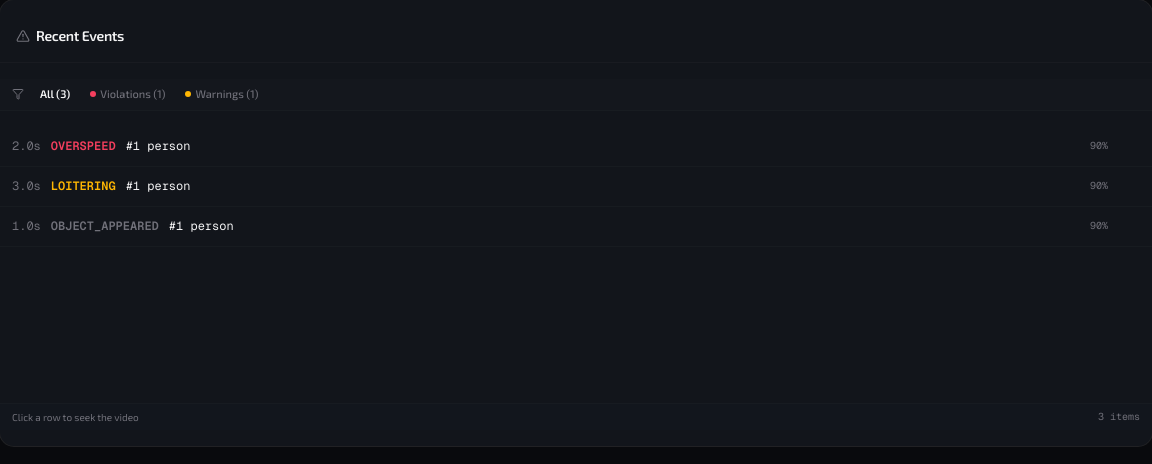
RecentEventsFeed › still shows only one severity tier when a quick filter is active
Click the button "Violations (1)".
click(128, 94)  # box top-left (82, 85), bottom-right (174, 104)
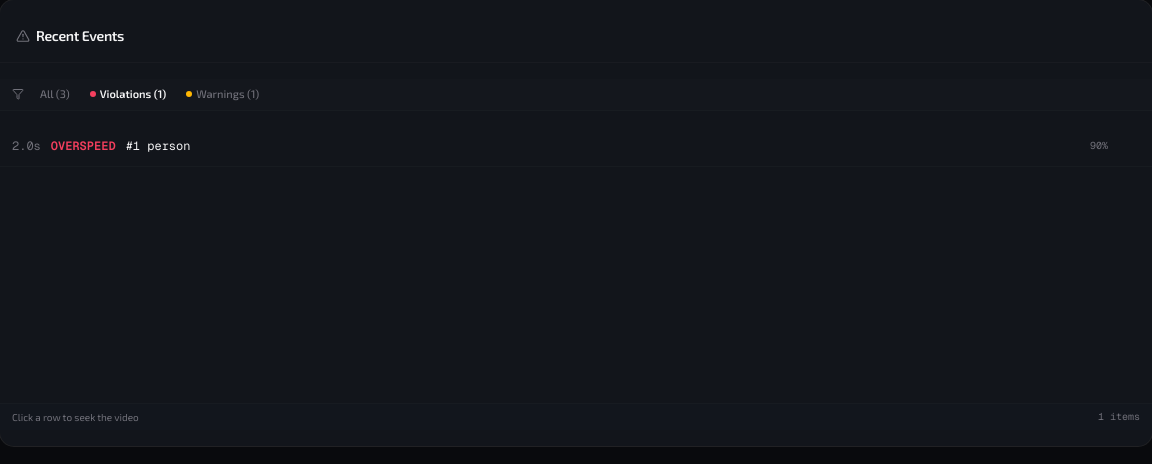
Expected: the text "OVERSPEED" is shown, top-left (51, 138), bottom-right (116, 154)
Expected: the button "OBJECT_APPEARED" is gone
Expected: the button "LOITERING" is gone
